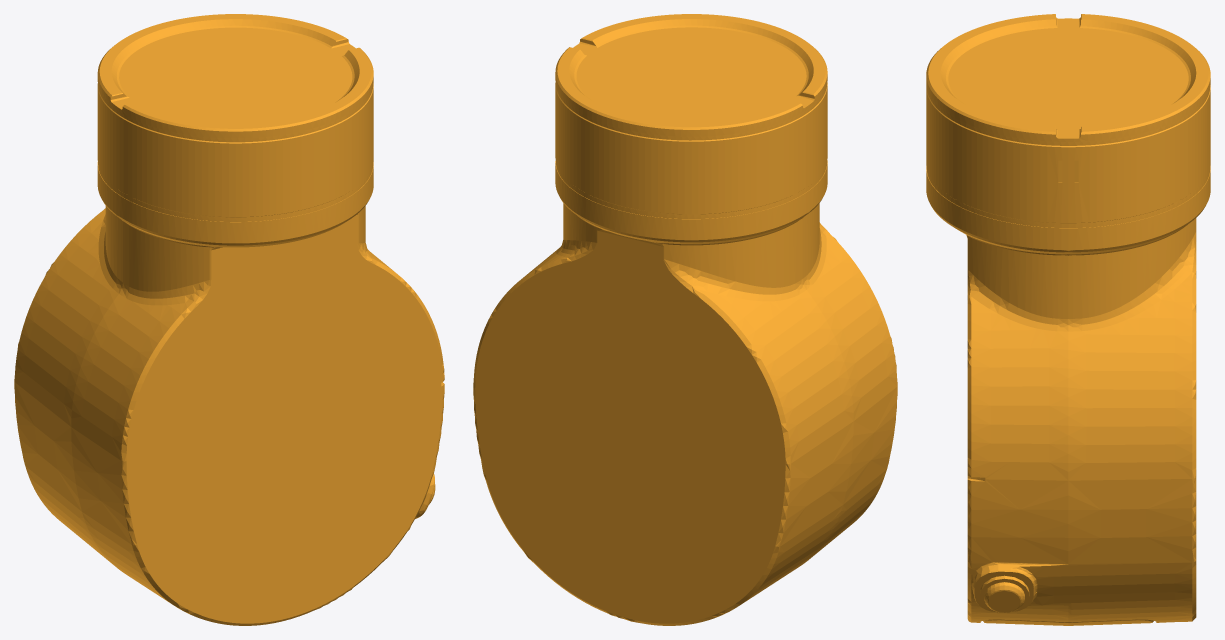
Rendered from ABBIRB1200Link5.dae.
3 renders of one model, left to right at view 1: azimuth 30°, elevation 25°; view 2: azimuth 150°, elevation 25°; view 3: azimuth 270°, elevation 25°, orthographic. The views are drawn at different scales.
Visible parts, largest first — view 1: ABBIRB1200Link5; view 2: ABBIRB1200Link5; view 3: ABBIRB1200Link5.
Part boxes in pixels (<box>): ABBIRB1200Link5: <box>14,14,444,625</box>; ABBIRB1200Link5: <box>473,14,897,625</box>; ABBIRB1200Link5: <box>926,14,1210,625</box>.
Bounding box in the file's own units: 0.095 × 0.069 × 0.143.
